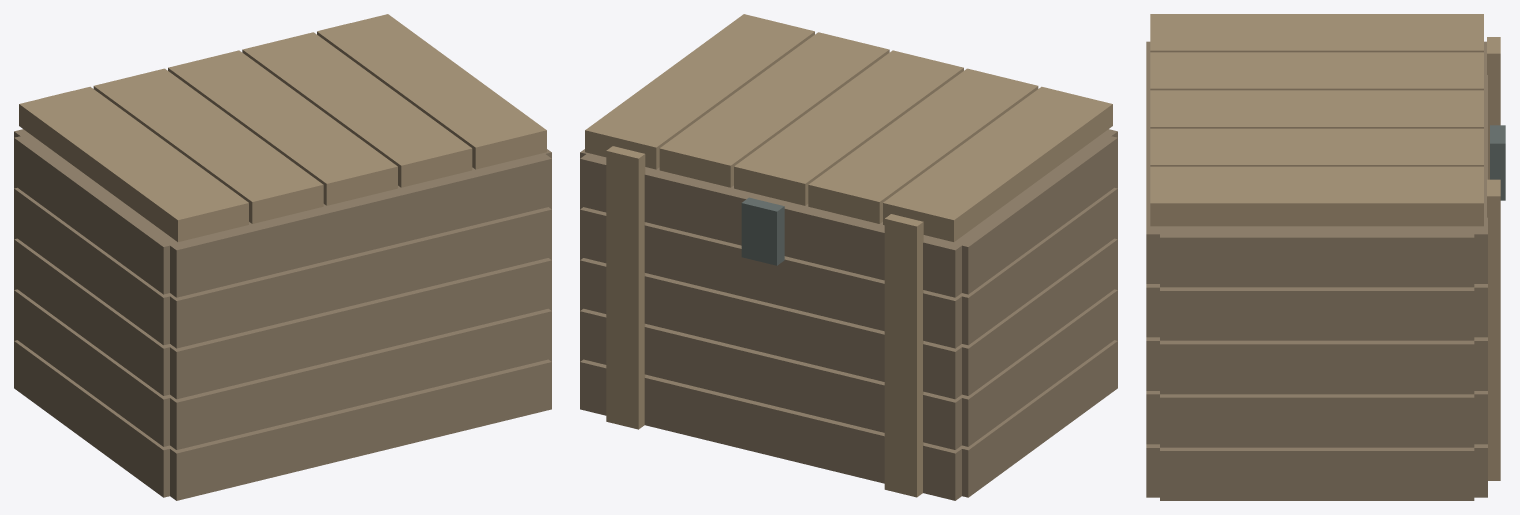
The model's file is SupplyCrate.fbx.
3 renders of one model, left to right at view 1: azimuth 30°, elevation 25°; view 2: azimuth 150°, elevation 25°; view 3: azimuth 270°, elevation 25°, orthographic. The views are drawn at different scales.
Parts seen in each view (by area): view 1: EndPlank1_4, EndPlank1_0, EndPlank1_2, EndPlank1_3, EndPlank1_1, LidPlank4, LidPlank1, LidPlank3, LidPlank0, LidPlank2, LongPlank1_4, LongPlank1_1 (+3 smaller); view 2: EndPlank-1_0, EndPlank-1_1, EndPlank-1_2, LidPlank4, EndPlank-1_3, EndPlank-1_4, LidPlank1, LidPlank3, LidPlank2, LidPlank0, Brace0.43, Brace-0.43 (+6 smaller); view 3: LidPlank0, LongPlank-1_4, LongPlank-1_2, LongPlank-1_1, LongPlank-1_3, LongPlank-1_0, LidPlank1, LidPlank2, LidPlank3, LidPlank4, Brace-0.43, EndPlank1_4 (+11 smaller).
Boxes of the visible parts, x1,y1,x2,y2 form: EndPlank1_4: (164, 153, 551, 297); EndPlank1_0: (167, 359, 551, 500); EndPlank1_2: (167, 258, 551, 399); EndPlank1_3: (168, 207, 551, 348); EndPlank1_1: (168, 308, 551, 449); LidPlank4: (19, 86, 248, 241); LidPlank1: (242, 32, 472, 187); LidPlank3: (93, 68, 323, 223); LidPlank0: (317, 14, 546, 169); LidPlank2: (168, 50, 397, 205); LongPlank1_4: (14, 136, 178, 294); LongPlank1_1: (14, 289, 172, 446); EndPlank-1_0: (580, 359, 964, 500); EndPlank-1_1: (580, 308, 964, 449); EndPlank-1_2: (580, 258, 961, 399); LidPlank4: (883, 86, 1112, 241); EndPlank-1_3: (580, 207, 961, 348); EndPlank-1_4: (580, 153, 967, 297); LidPlank1: (659, 32, 889, 187); LidPlank3: (808, 68, 1038, 223); LidPlank2: (734, 50, 963, 205); LidPlank0: (585, 14, 814, 169); Brace0.43: (884, 214, 923, 497); Brace-0.43: (606, 146, 645, 429); LidPlank0: (1150, 166, 1483, 226); LongPlank-1_4: (1160, 226, 1474, 287); LongPlank-1_2: (1160, 340, 1474, 394); LongPlank-1_1: (1160, 394, 1474, 447); LongPlank-1_3: (1160, 287, 1474, 340); LongPlank-1_0: (1160, 447, 1474, 500); LidPlank1: (1150, 128, 1483, 166); LidPlank2: (1150, 90, 1483, 128); LidPlank3: (1150, 52, 1483, 90); LidPlank4: (1150, 14, 1483, 52); Brace-0.43: (1487, 179, 1500, 480); EndPlank1_4: (1146, 41, 1172, 283).
Bounding box in the file's own units: 1.2 × 0.8225 × 0.915.
